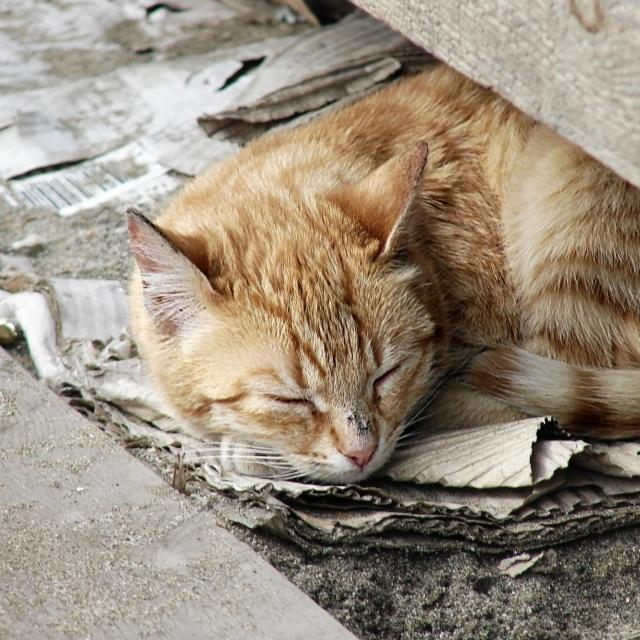animals: (126, 61, 640, 483)
